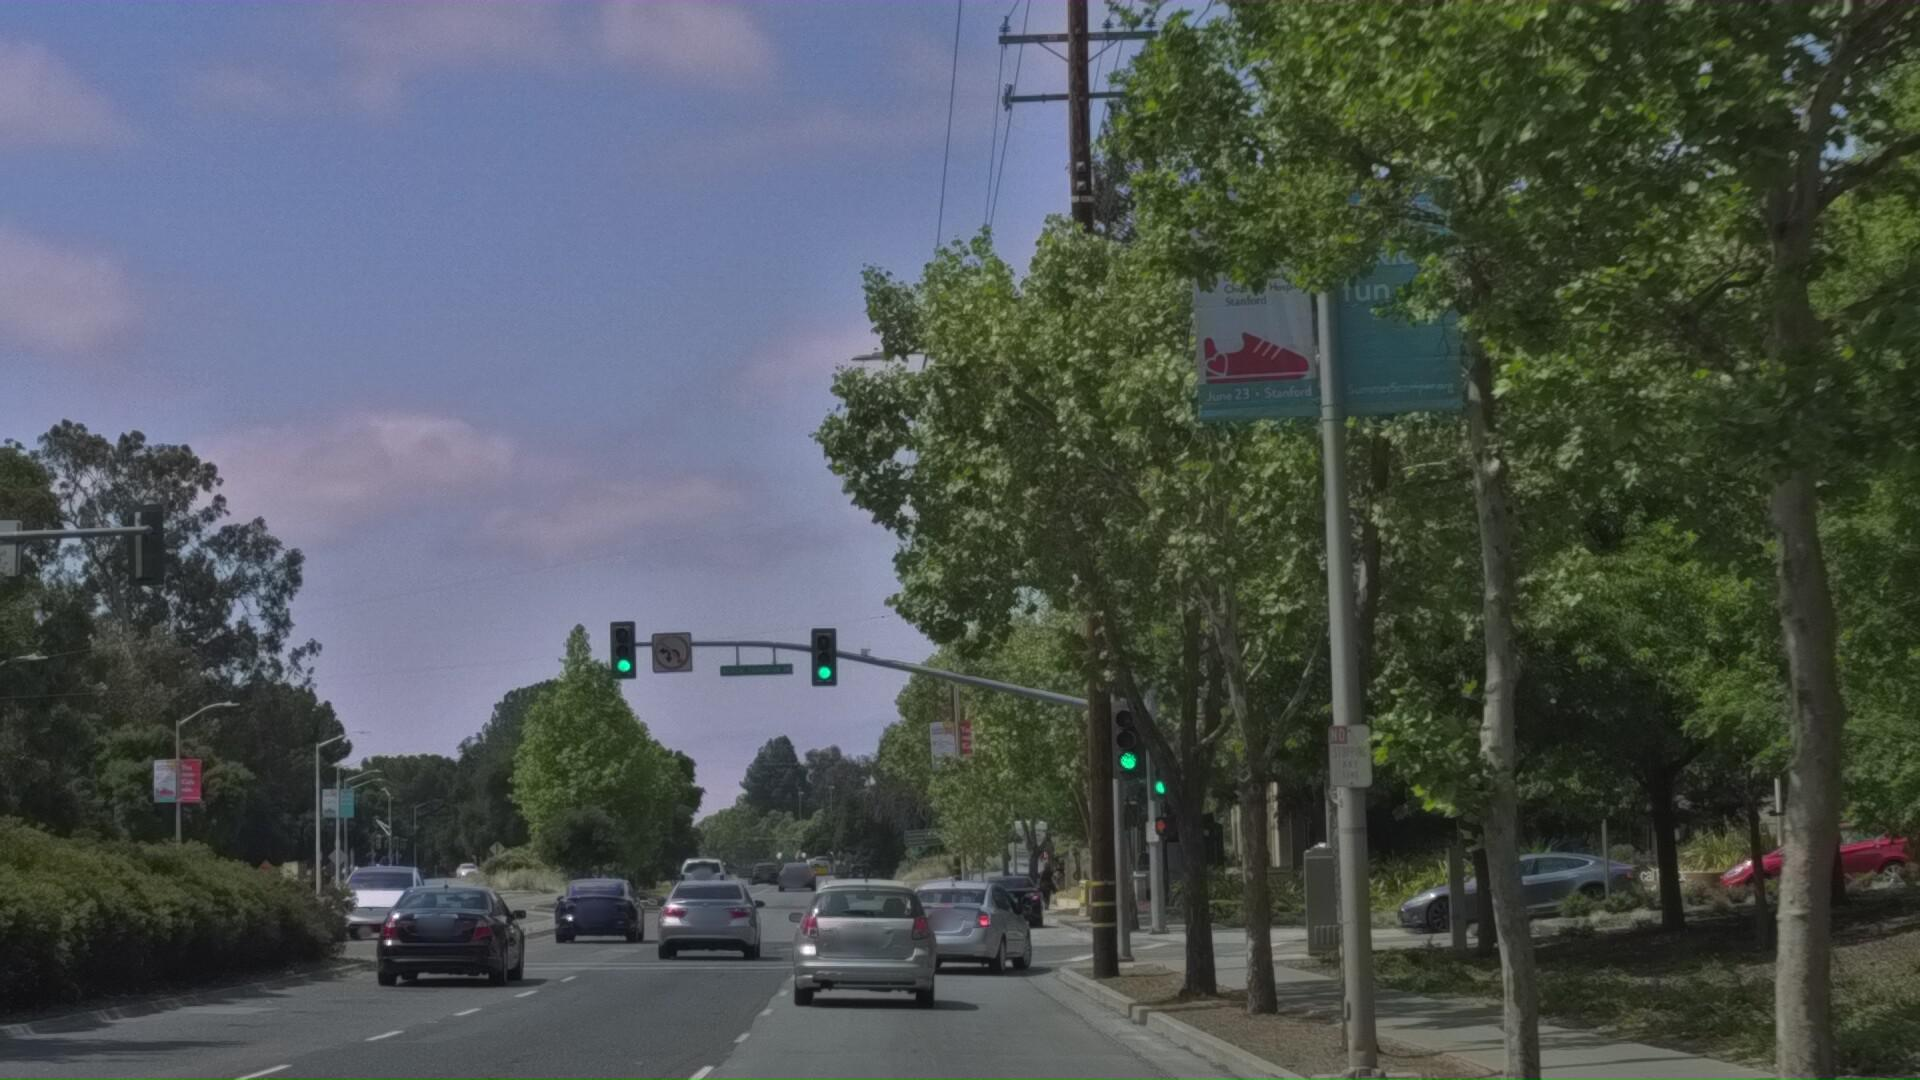car: (1396, 942, 1646, 1033), (775, 959, 949, 1080), (357, 977, 539, 1080), (1718, 916, 1920, 1004), (899, 980, 1062, 1080), (328, 953, 448, 1040), (651, 971, 771, 1056), (554, 978, 651, 1050)
